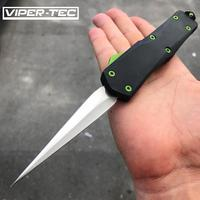knife: (8, 10, 195, 196)
